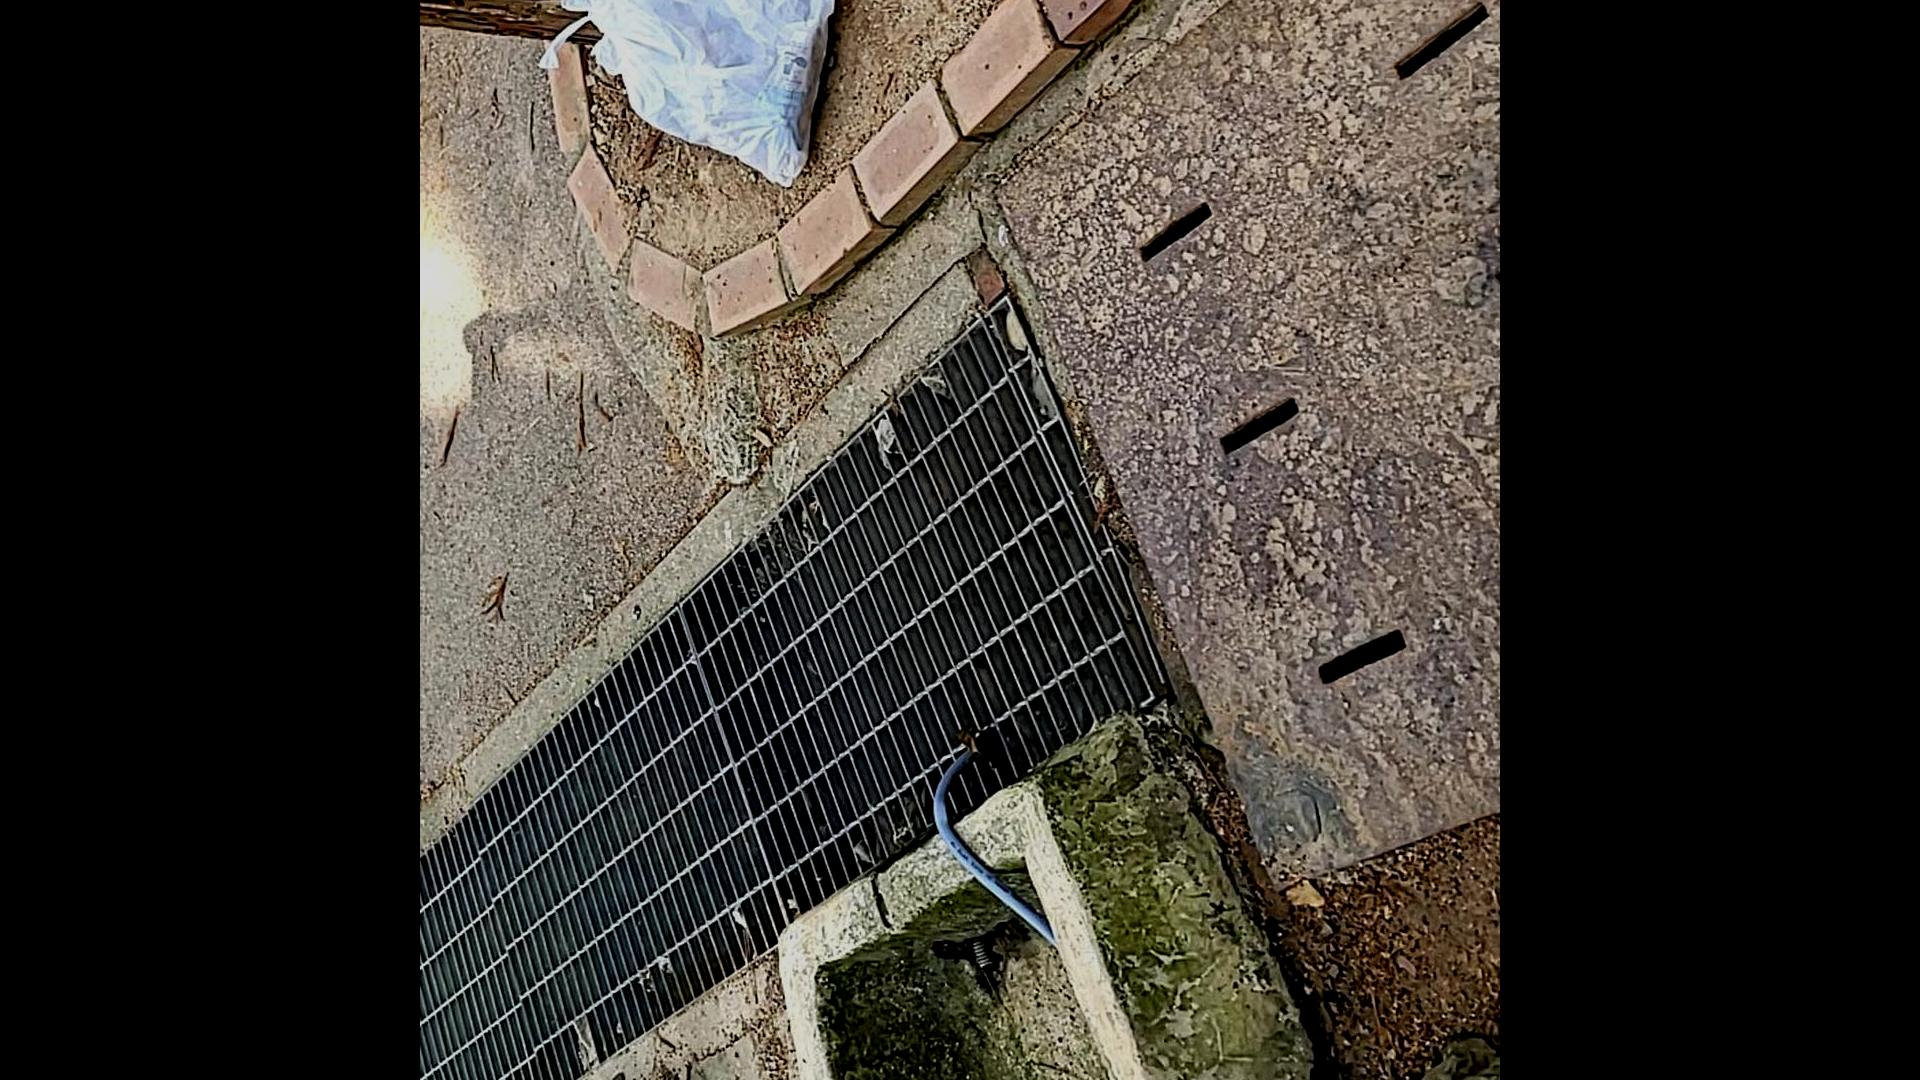white_bag: (541, 0, 855, 200)
